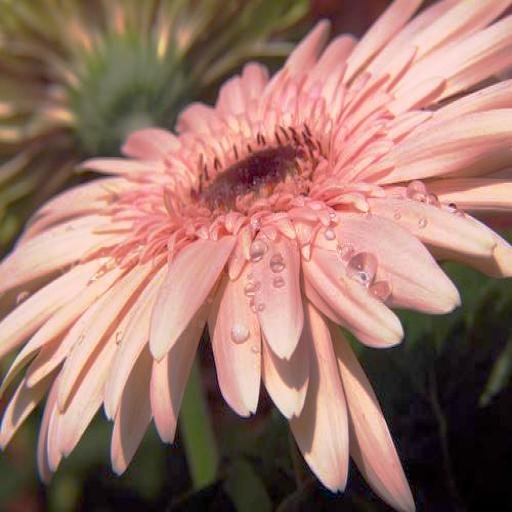daisy: (3, 0, 509, 510)
